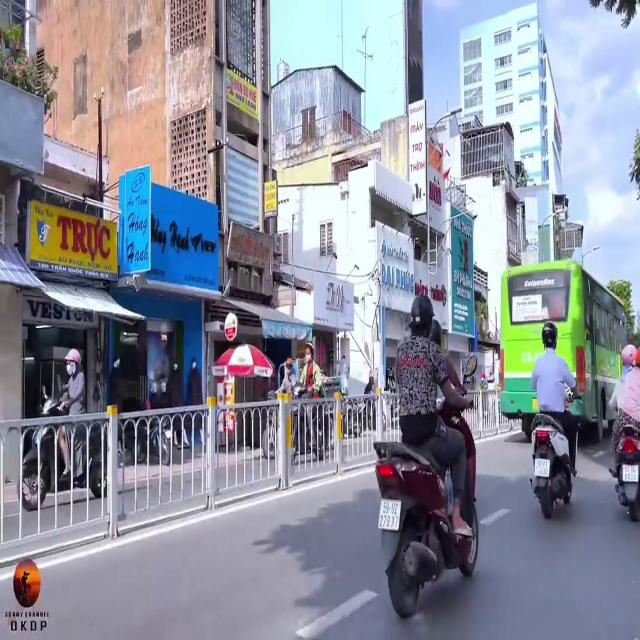bien_trang: (380, 496, 400, 530), (618, 458, 640, 487), (534, 457, 552, 478)
